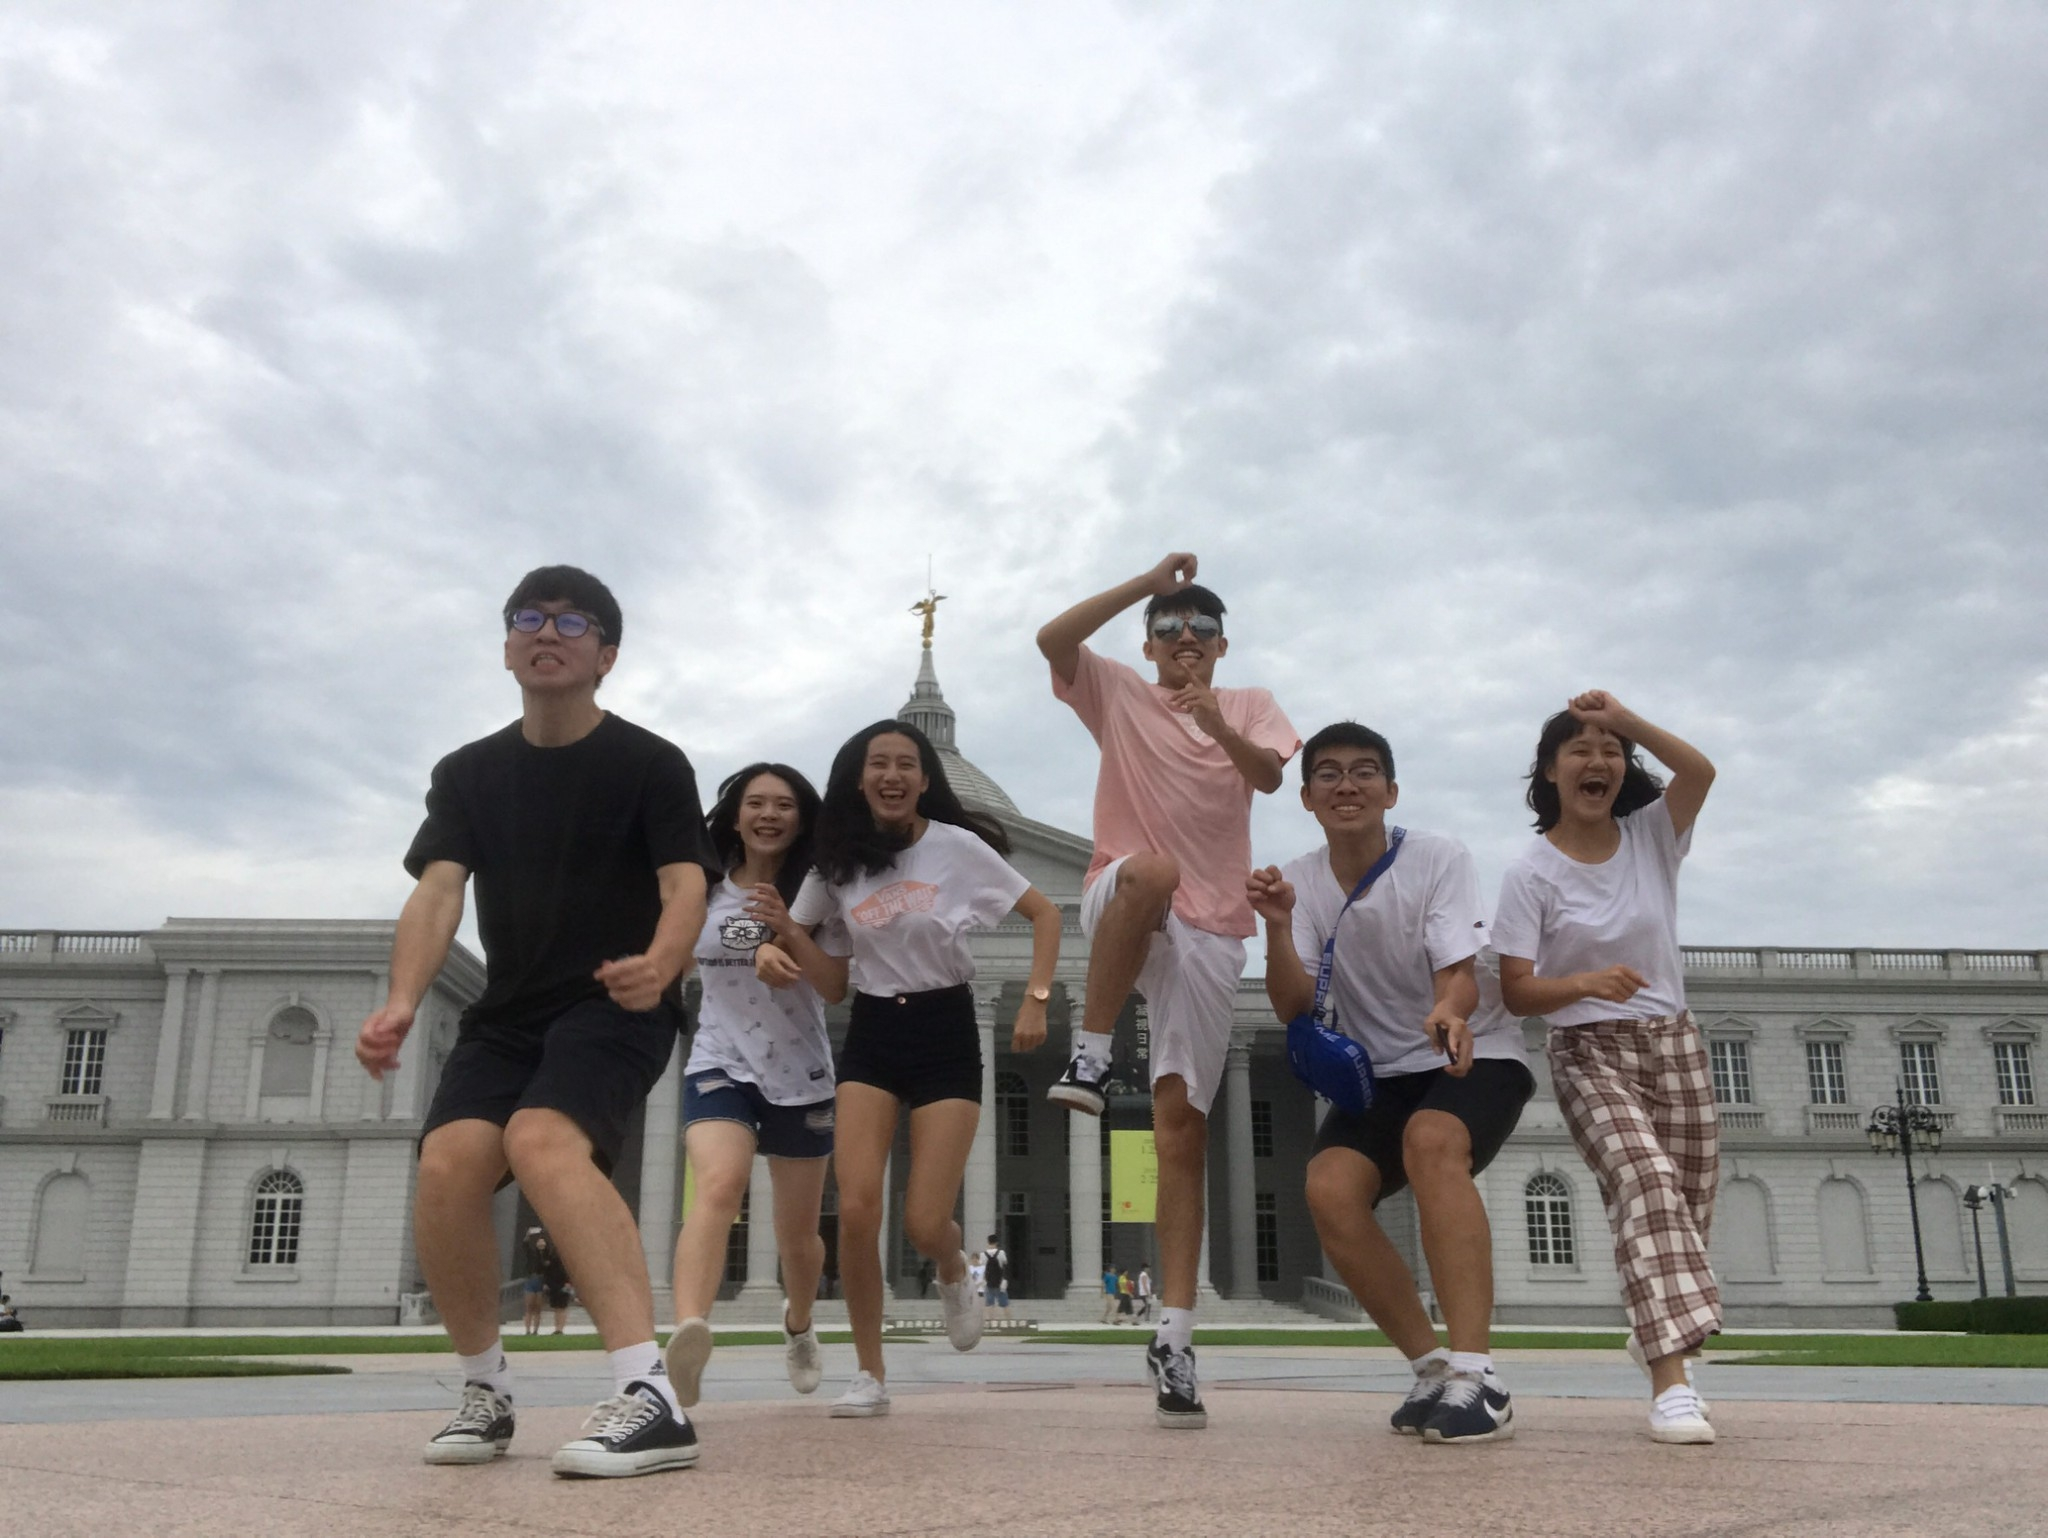people: (404, 559, 690, 1447), (1507, 703, 1752, 1470), (1287, 720, 1528, 1447), (1078, 588, 1263, 1438), (822, 720, 1007, 1420), (699, 767, 831, 1373)
